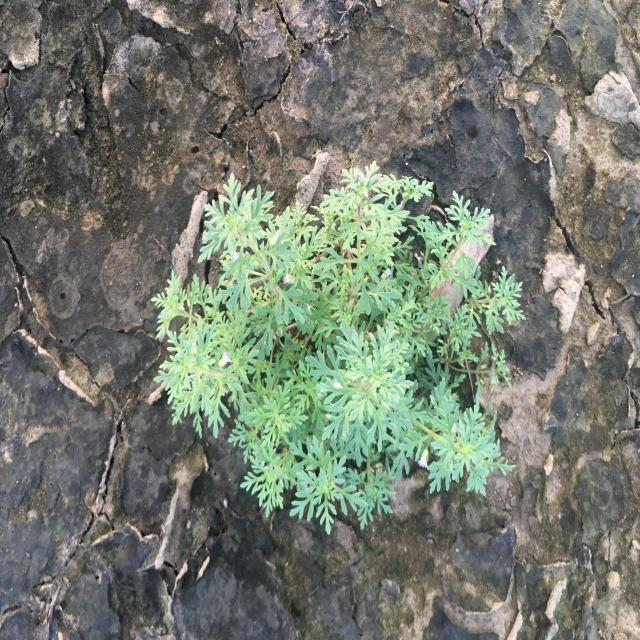Ragweed: (149, 158, 527, 536)
